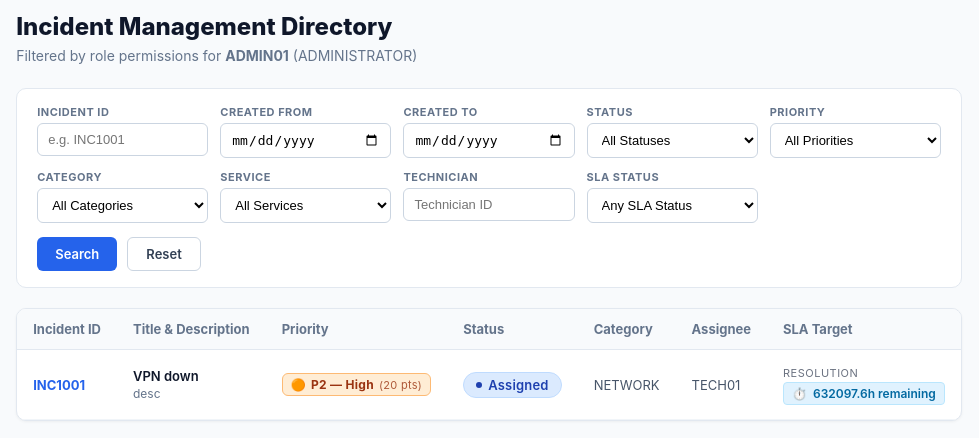
Test: IncidentListPage server-side search › reset clears the form and searches again with no criteria
Check: the link "VPN down" is shown, box [133, 368, 199, 384]
Type "INC1001" into the field labelled "Incident ID". click: point(123, 140)
box: [37, 123, 208, 156]
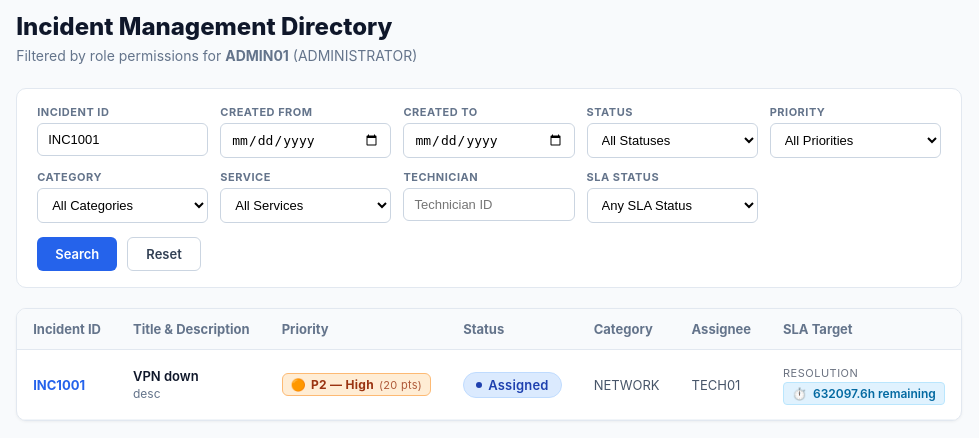
Click the button "Search". click: point(77, 254)
box: [37, 237, 117, 271]
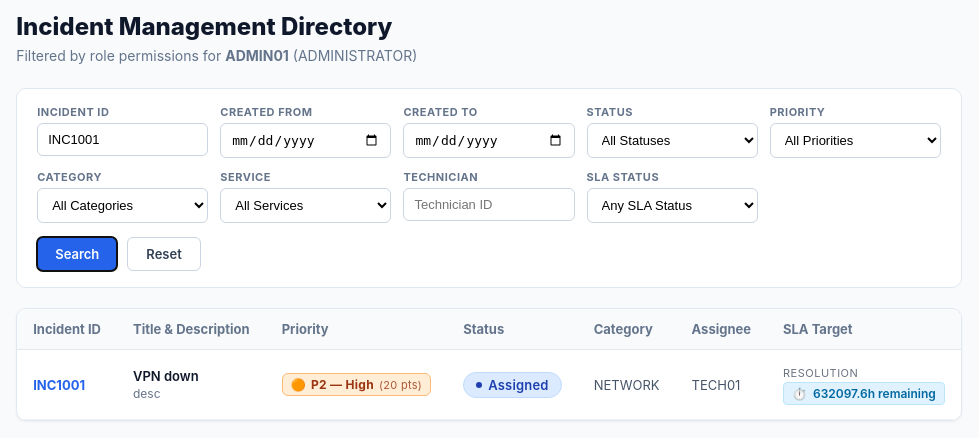
Click the button "Reset". click: point(164, 254)
box: [127, 237, 201, 271]
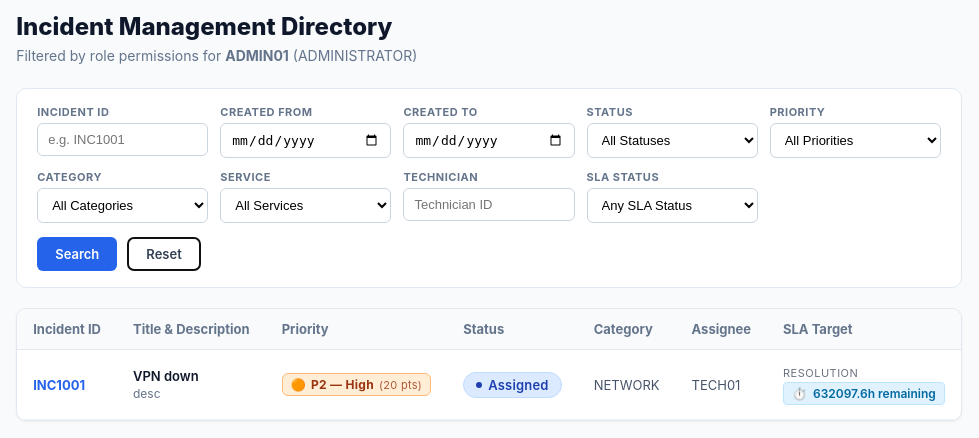
Check: the field labelled "Incident ID" is empty, box [37, 123, 208, 156]
